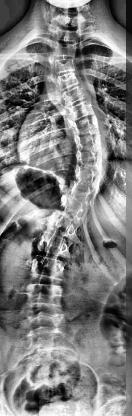Vertebrae: (48, 212, 86, 236), (32, 255, 70, 279), (30, 279, 64, 303), (42, 233, 74, 257), (27, 317, 62, 337), (70, 115, 104, 135), (74, 169, 108, 189), (31, 302, 66, 320), (75, 134, 104, 154), (75, 152, 104, 172), (69, 187, 101, 205), (61, 86, 92, 104), (63, 202, 95, 218), (68, 100, 98, 116), (55, 73, 82, 89), (51, 59, 79, 73)
